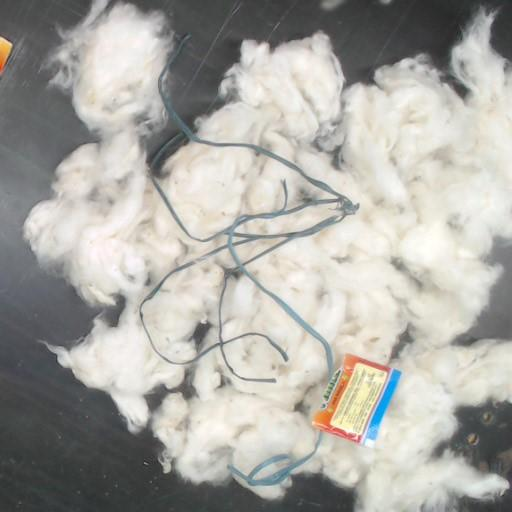conveyor belt: (132, 0, 511, 118), (451, 404, 511, 471), (470, 244, 511, 340), (461, 487, 511, 511)
cotton: (24, 0, 511, 511)
packet: (312, 355, 400, 445), (0, 37, 12, 75)
thread: (139, 35, 358, 382)
